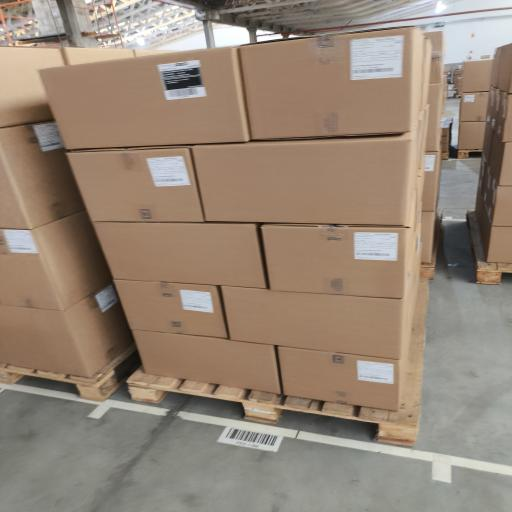pallet: (128, 278, 428, 446), (0, 345, 140, 401), (466, 210, 512, 284), (421, 209, 443, 279), (458, 149, 482, 159), (442, 153, 449, 159), (454, 94, 461, 98)
